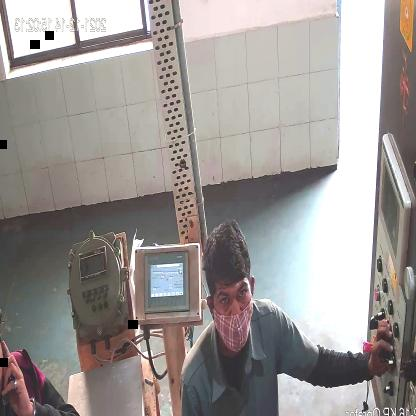no_goggles: (216, 280, 251, 314)
